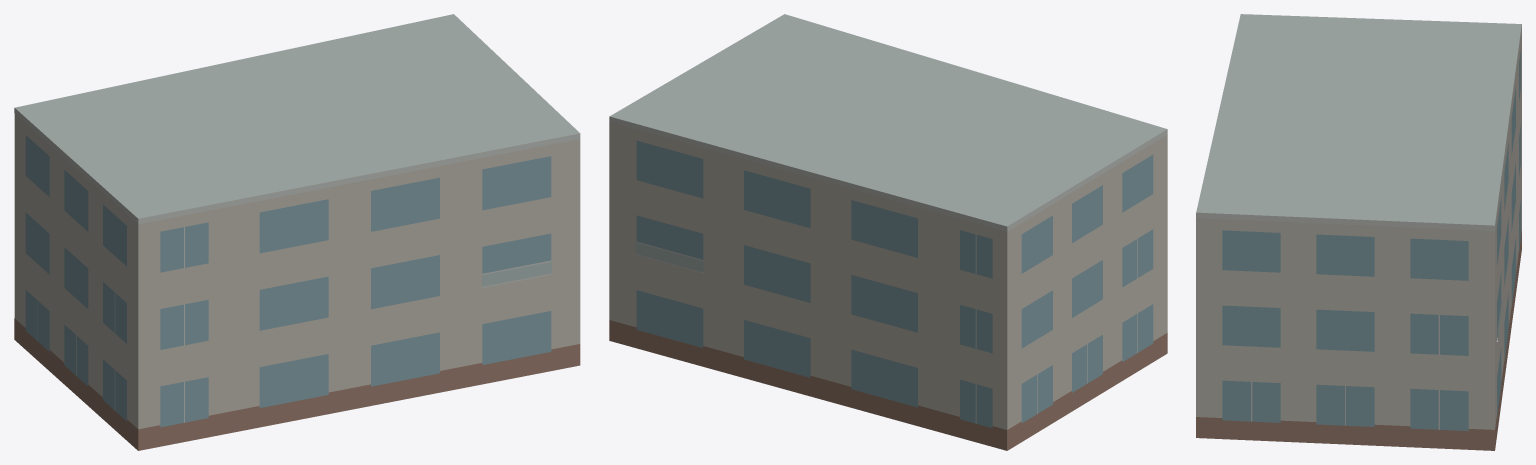
Rendered from survey-upis-32600376.glb.
3 views of the same model, side by side, from view 1: azimuth 30°, elevation 25°; view 2: azimuth 150°, elevation 25°; view 3: azimuth 270°, elevation 25° (orthographic). The views are drawn at different scales.
Parts seen in each view (by area): view 1: survey-upis-32600376.tmp; view 2: survey-upis-32600376.tmp; view 3: survey-upis-32600376.tmp.
Part boxes in pixels (x1,y1,x2,y2): survey-upis-32600376.tmp: (14,14,580,450); survey-upis-32600376.tmp: (609,14,1167,450); survey-upis-32600376.tmp: (1196,14,1521,450).
Bounding box in the file's own units: 20.55 × 10.2 × 13.37.
